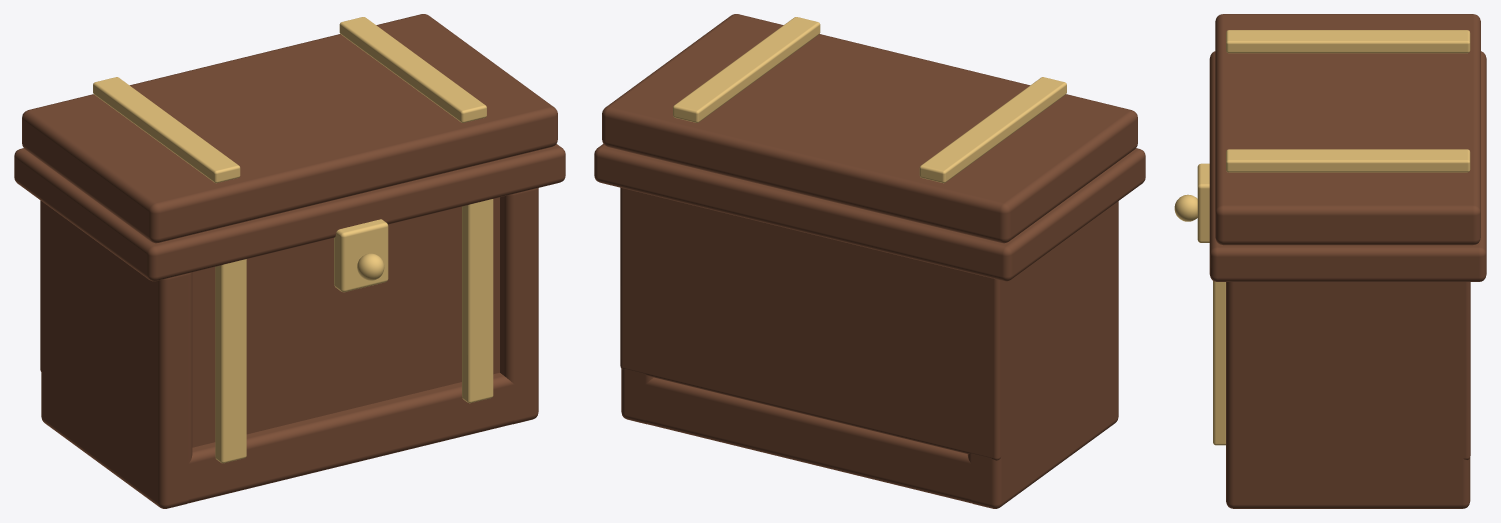
The model's file is royal-court-and-throne-palace-sealed-document-chest-20c6d4c8__29397.glb.
The picture shows the model from 3 angles, left to right: view 1: azimuth 30°, elevation 25°; view 2: azimuth 150°, elevation 25°; view 3: azimuth 270°, elevation 25°; orthographic projection.
Parts seen in each view (by area): view 1: sealed-document-chest; view 2: sealed-document-chest; view 3: sealed-document-chest.
Boxes of the visible parts, bbox=[...] form: sealed-document-chest: bbox=[14, 14, 565, 508]; sealed-document-chest: bbox=[594, 14, 1145, 508]; sealed-document-chest: bbox=[1174, 14, 1486, 508].
Bounding box in the file's own units: 0.88 × 0.66 × 0.575.
